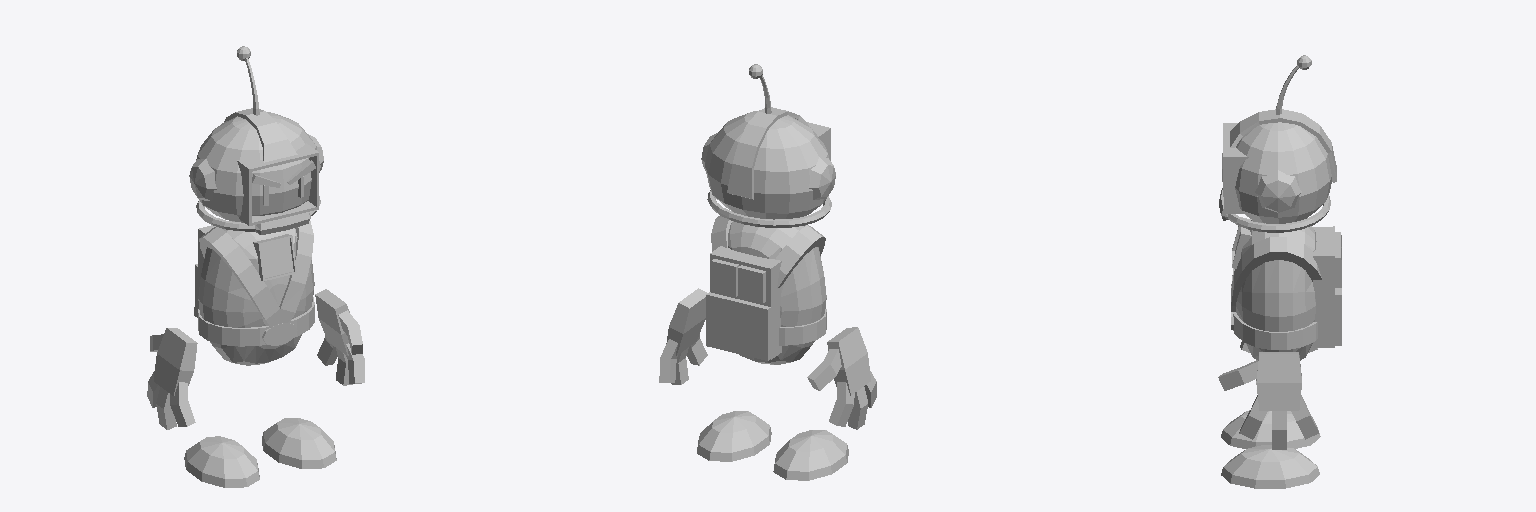
Rendered from bomberman_000000.obj.
3 renders of one model, left to right at view 1: azimuth 30°, elevation 25°; view 2: azimuth 150°, elevation 25°; view 3: azimuth 270°, elevation 25°, orthographic.
Parts seen in each view (by area): view 1: BM_BODY.002_Mesh.009, BM_Head.002_Mesh.005, BM_BODY.001_Mesh.008, BM_Head.001_Mesh.004, R_Hand_Mesh.003, L_Hand_Mesh.002, R_Foot_Mesh.001, L_Foot_Mesh; view 2: BM_BODY.002_Mesh.009, BM_Head.002_Mesh.005, BM_BODY.001_Mesh.008, BM_Head.001_Mesh.004, R_Hand_Mesh.003, L_Hand_Mesh.002, R_Foot_Mesh.001, L_Foot_Mesh; view 3: BM_BODY.002_Mesh.009, BM_Head.002_Mesh.005, BM_BODY.001_Mesh.008, BM_Head.001_Mesh.004, L_Hand_Mesh.002, L_Foot_Mesh, R_Foot_Mesh.001.
Boxes of the visible parts, x1,y1,x2,y2 form: BM_BODY.002_Mesh.009: [194, 221, 314, 346]; BM_Head.002_Mesh.005: [196, 112, 320, 234]; BM_BODY.001_Mesh.008: [198, 221, 314, 365]; BM_Head.001_Mesh.004: [189, 108, 323, 231]; R_Hand_Mesh.003: [147, 328, 197, 429]; L_Hand_Mesh.002: [315, 289, 364, 385]; R_Foot_Mesh.001: [184, 436, 259, 487]; L_Foot_Mesh: [262, 418, 336, 468]; BM_BODY.002_Mesh.009: [706, 216, 826, 360]; BM_Head.002_Mesh.005: [705, 110, 829, 219]; BM_BODY.001_Mesh.008: [728, 221, 826, 364]; BM_Head.001_Mesh.004: [701, 107, 835, 227]; R_Hand_Mesh.003: [807, 327, 876, 429]; L_Hand_Mesh.002: [659, 288, 707, 384]; R_Foot_Mesh.001: [773, 430, 848, 480]; L_Foot_Mesh: [697, 411, 771, 461]; BM_BODY.002_Mesh.009: [1231, 217, 1341, 349]; BM_Head.002_Mesh.005: [1219, 122, 1331, 223]; BM_BODY.001_Mesh.008: [1236, 220, 1316, 360]; BM_Head.001_Mesh.004: [1222, 109, 1336, 232]; L_Hand_Mesh.002: [1218, 352, 1318, 449]; L_Foot_Mesh: [1221, 445, 1319, 488]; R_Foot_Mesh.001: [1221, 410, 1320, 448].
Size of the model in its own units: 3.94 by 7.82 by 2.19.